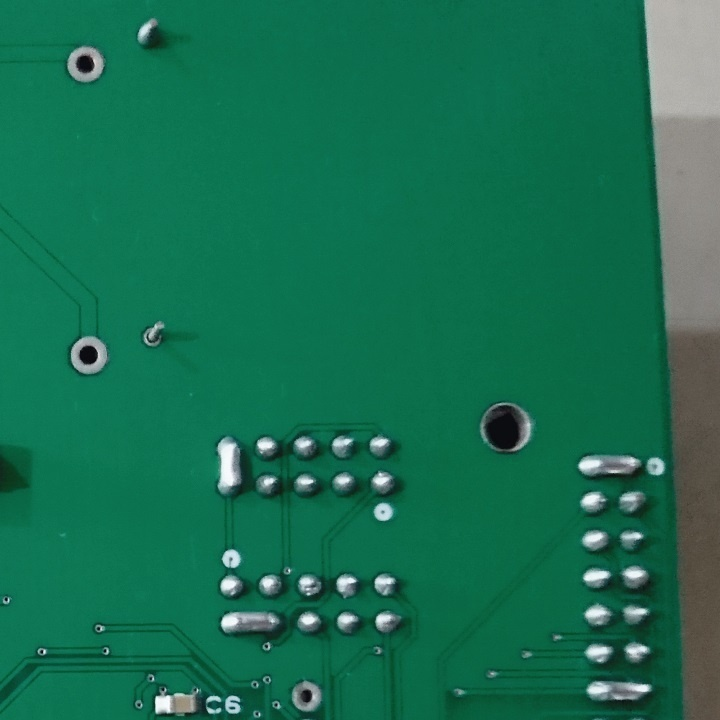F: (65, 332, 112, 377), (65, 42, 107, 88), (286, 678, 326, 717), (140, 318, 170, 352)
P: (213, 430, 247, 499), (580, 678, 656, 708), (575, 452, 642, 482), (218, 609, 284, 636)
